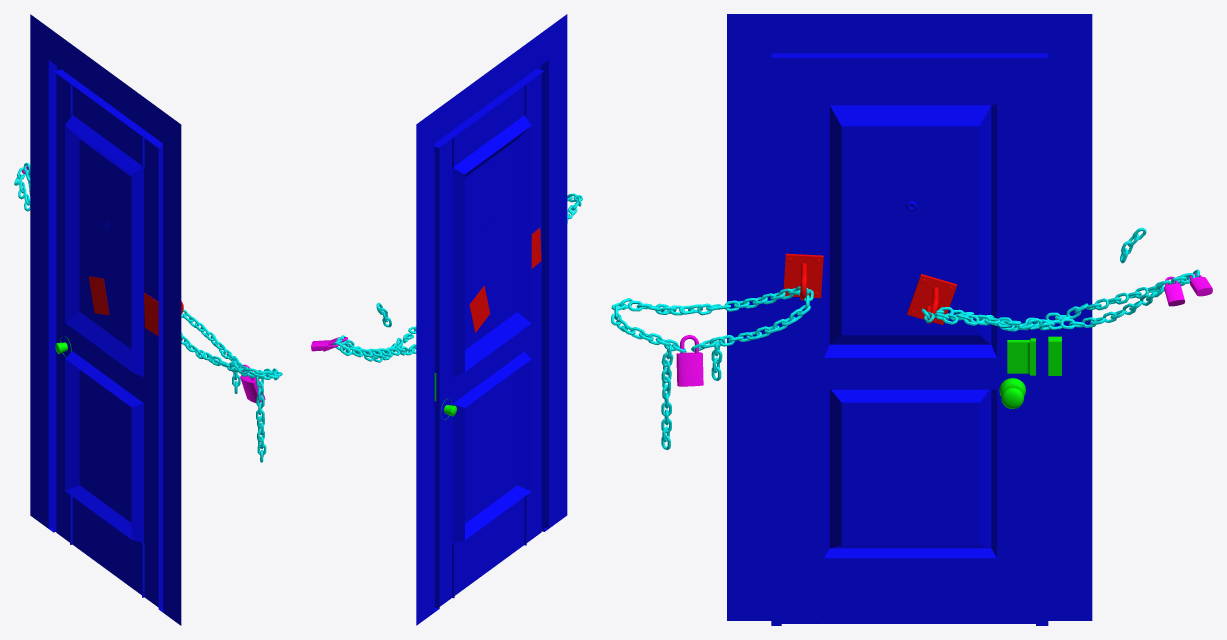
File: LockedDoor.fbx
3 views of the same model, side by side, from view 1: azimuth 30°, elevation 25°; view 2: azimuth 150°, elevation 25°; view 3: azimuth 270°, elevation 25° (orthographic). The views are drawn at different scales.
Visible parts, largest first — view 1: polySurface9, polySurface2, group3, group4, pCylinder4; view 2: polySurface9, polySurface2, group3; view 3: polySurface9, polySurface2, group4, group3, pCylinder4, polySurface11.
Part boxes in pixels (<box>): polySurface9: <box>56,73,158,607</box>; polySurface2: <box>30,14,181,625</box>; group3: <box>88,276,109,315</box>; group4: <box>144,293,183,336</box>; pCylinder4: <box>240,364,265,402</box>; polySurface9: <box>439,73,541,606</box>; polySurface2: <box>416,14,567,625</box>; group3: <box>469,285,490,332</box>; polySurface9: <box>781,67,1035,623</box>; polySurface2: <box>727,14,1092,625</box>; group4: <box>783,253,823,300</box>; group3: <box>907,274,956,324</box>; pCylinder4: <box>676,335,703,386</box>; polySurface11: <box>1007,338,1035,375</box>.
Bounding box in the file's own units: 30.06 × 200 × 179.
